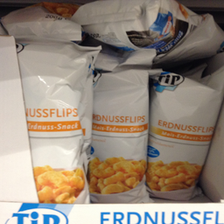chips: (7, 41, 94, 204), (149, 68, 217, 200), (85, 66, 151, 201)
